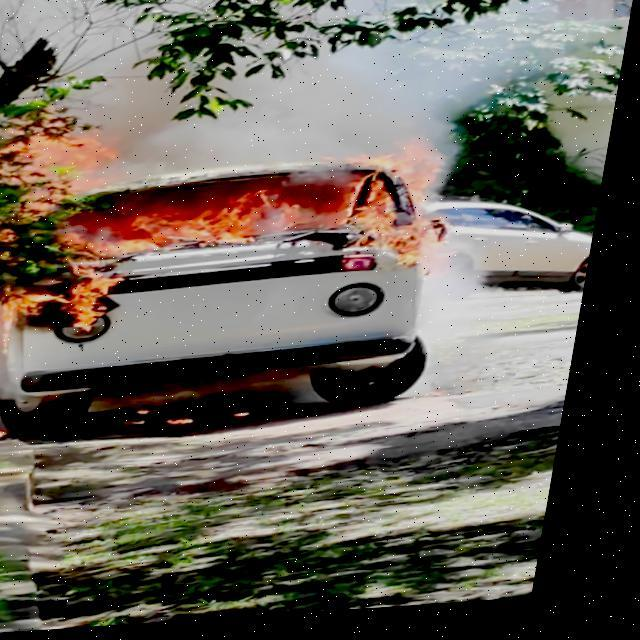Fire: (61, 140, 457, 292), (0, 112, 129, 206), (1, 269, 130, 342), (0, 430, 23, 440), (178, 421, 210, 428)
